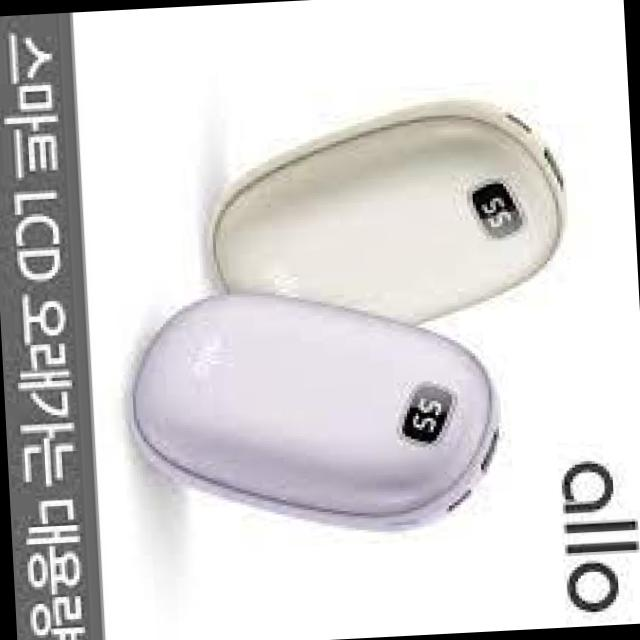power_bank: (121, 274, 508, 543), (206, 100, 579, 342)
